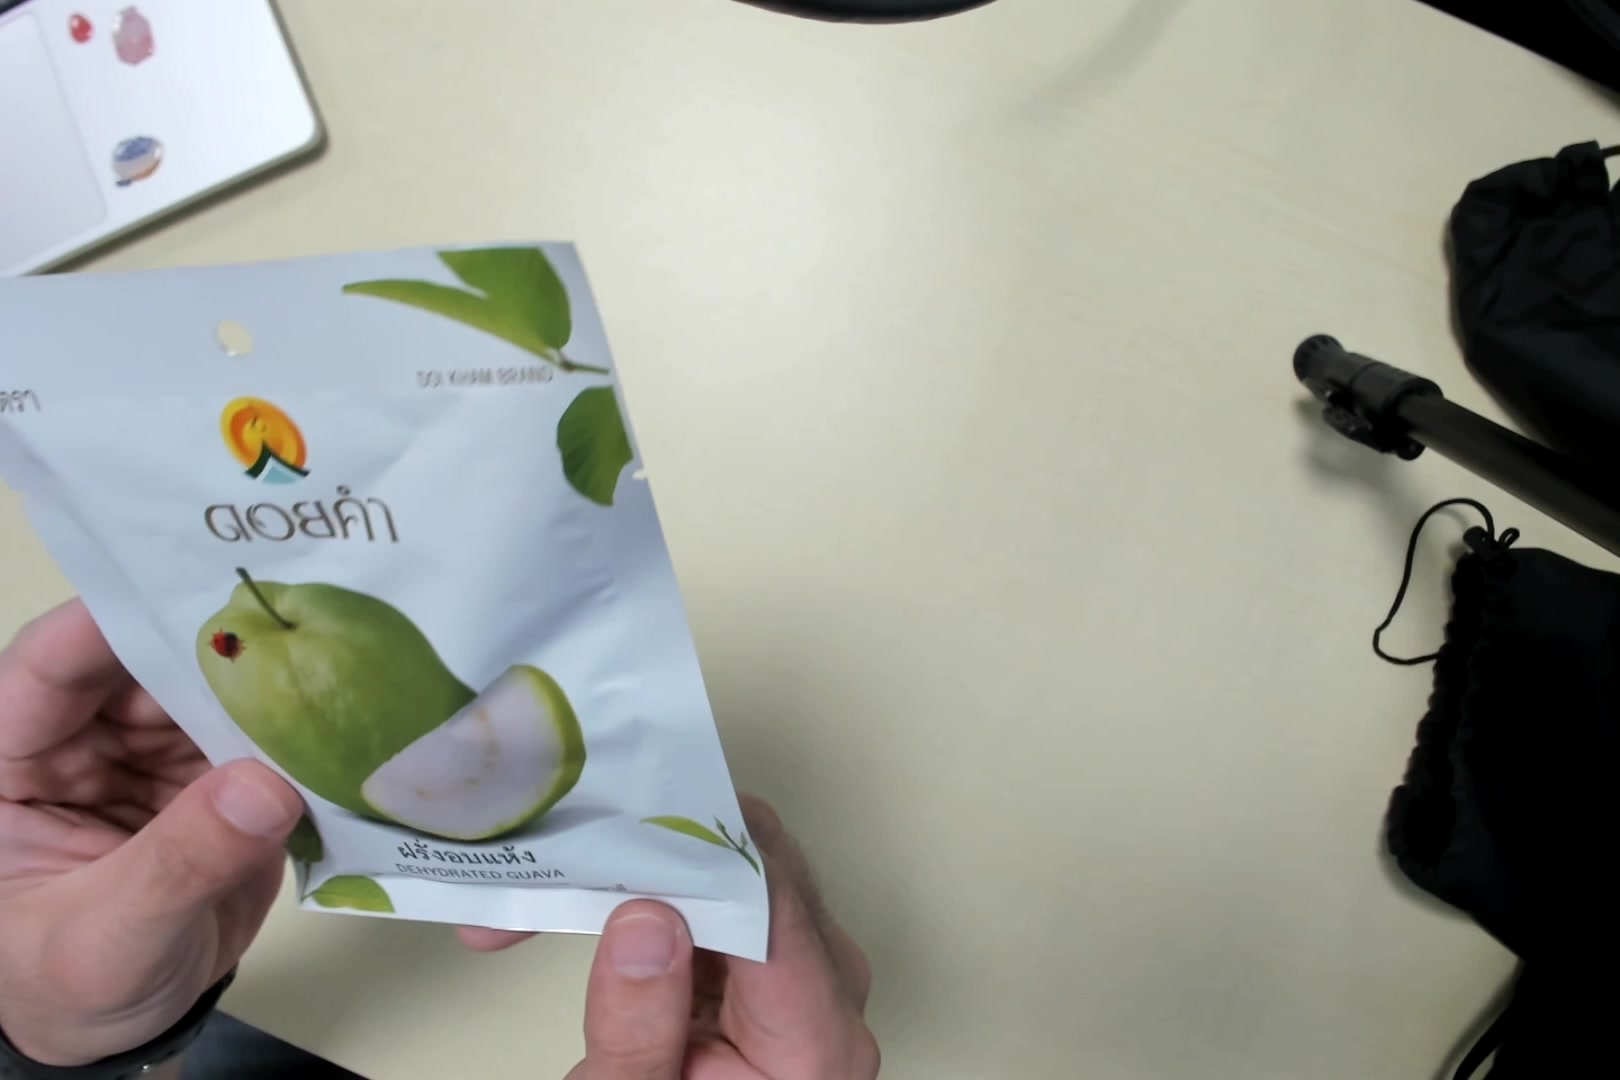DriedFruits_0-99g_Halal_NonHealthy: (5, 280, 768, 968)
